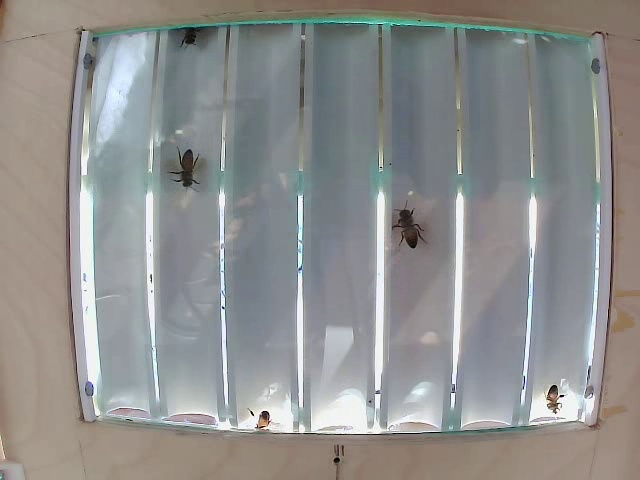bee: (385, 207, 424, 244), (169, 160, 204, 201)
